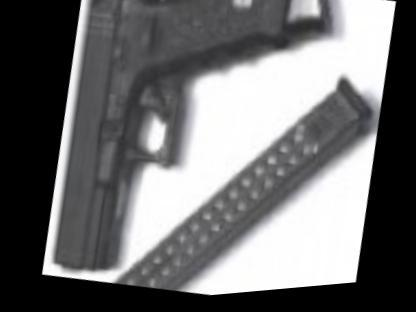pistol: (23, 0, 344, 309)
